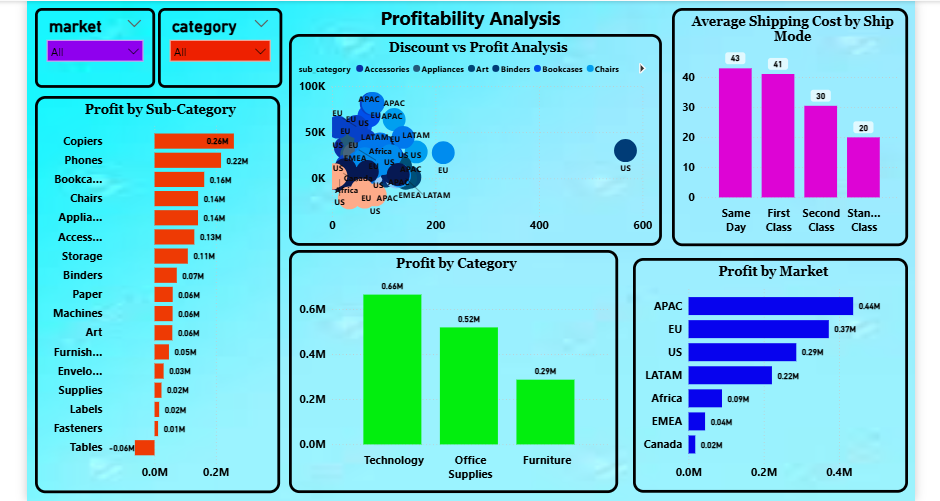

This screenshot's page, from the dashboard's own definition file:
{"tool":"powerbi","page":{"name":"Profitability Analysis","canvas":[1280,720],"ordinal":3},"visuals":[{"type":"clusteredColumnChart","title":"Profit by Category","fields":{"Category":["cleaned_sales_data.category"],"Y":["Sum(cleaned_sales_data.profit)"]},"box":[377.3,358.6,473.8,349.9],"z":0},{"type":"clusteredBarChart","title":"Profit by Market","fields":{"Category":["cleaned_sales_data.market"],"Y":["Sum(cleaned_sales_data.profit)"]},"box":[872.6,370.1,396,338.4],"z":1000},{"type":"barChart","title":"Profit by Sub-Category","fields":{"Category":["cleaned_sales_data.sub_category"],"Y":["Sum(cleaned_sales_data.profit)"]},"box":[11.5,136.8,352.8,571.7],"z":2000},{"type":"slicer","title":"market","fields":{"Values":["cleaned_sales_data.market"]},"box":[11.5,10.1,172.8,115.2],"z":3000},{"type":"lineClusteredColumnComboChart","title":"Average Shipping Cost by Ship Mode","fields":{"Category":["cleaned_sales_data.ship_mode"],"Y":["Avg(cleaned_sales_data.shipping_cost)"]},"box":[928.8,10.1,339.8,342.7],"z":4000},{"type":"slicer","title":" Category","fields":{"Values":["cleaned_sales_data.category"]},"box":[188.6,10.1,178.6,115.2],"z":5000},{"type":"scatterChart","title":"Discount vs Profit Analysis","fields":{"Series":["cleaned_sales_data.sub_category"],"Y":["Sum(cleaned_sales_data.profit)"],"X":["Sum(cleaned_sales_data.discount)"],"Category":["cleaned_sales_data.market"]},"box":[377.3,47.5,537.1,305.3],"z":6000},{"type":"textbox","box":[504,0,285.1,54.7],"z":8000}]}

Visuals, with their boxes in screenshot pixels (x1, y1, x2, y2):
"Profit by Category" clusteredColumnChart: BBox(289, 249, 614, 489)
"Profit by Market" clusteredBarChart: BBox(629, 257, 901, 489)
"Profit by Sub-Category" barChart: BBox(37, 96, 280, 489)
"market" slicer: BBox(37, 9, 156, 89)
"Average Shipping Cost by Ship Mode" lineClusteredColumnComboChart: BBox(668, 9, 901, 245)
" Category" slicer: BBox(159, 9, 282, 89)
"Discount vs Profit Analysis" scatterChart: BBox(289, 35, 658, 245)
textbox: BBox(376, 2, 572, 40)
